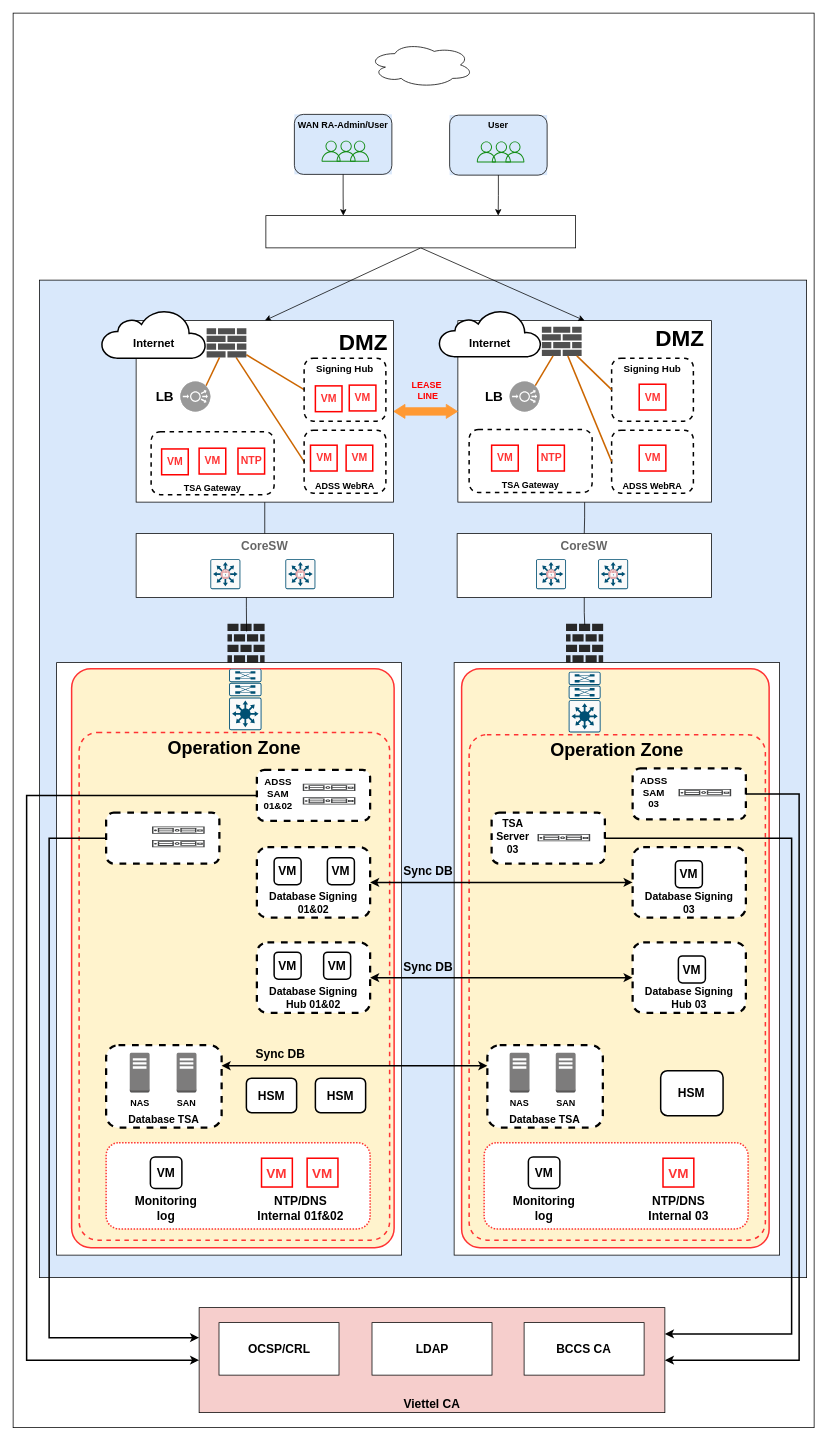
This 827x1441 diagram has some shape labels left out. The centre of each missing label's shape, as x and y in pixels:
"Firebase Notification" belongs at (x=421, y=64).
"GLB active-standby/active-active" belongs at (x=420, y=231).
"TSA Server 01&02" belongs at (x=162, y=837).
